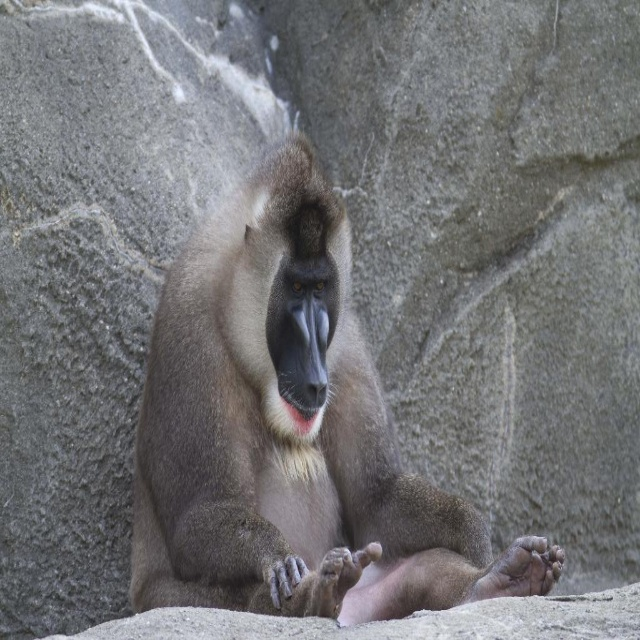Monkey: (129, 131, 565, 628)
